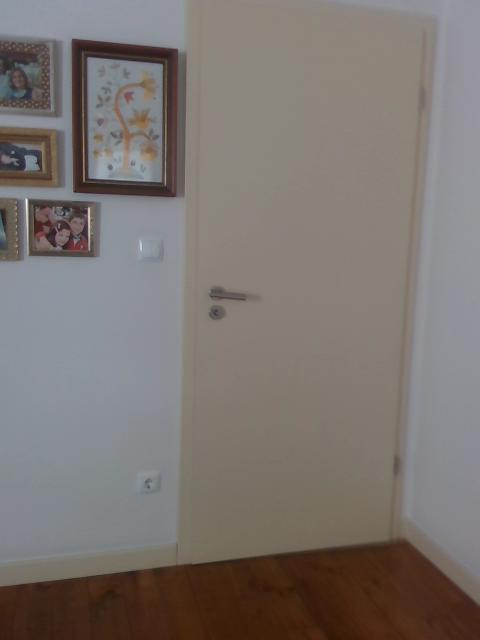door: (192, 2, 426, 566)
